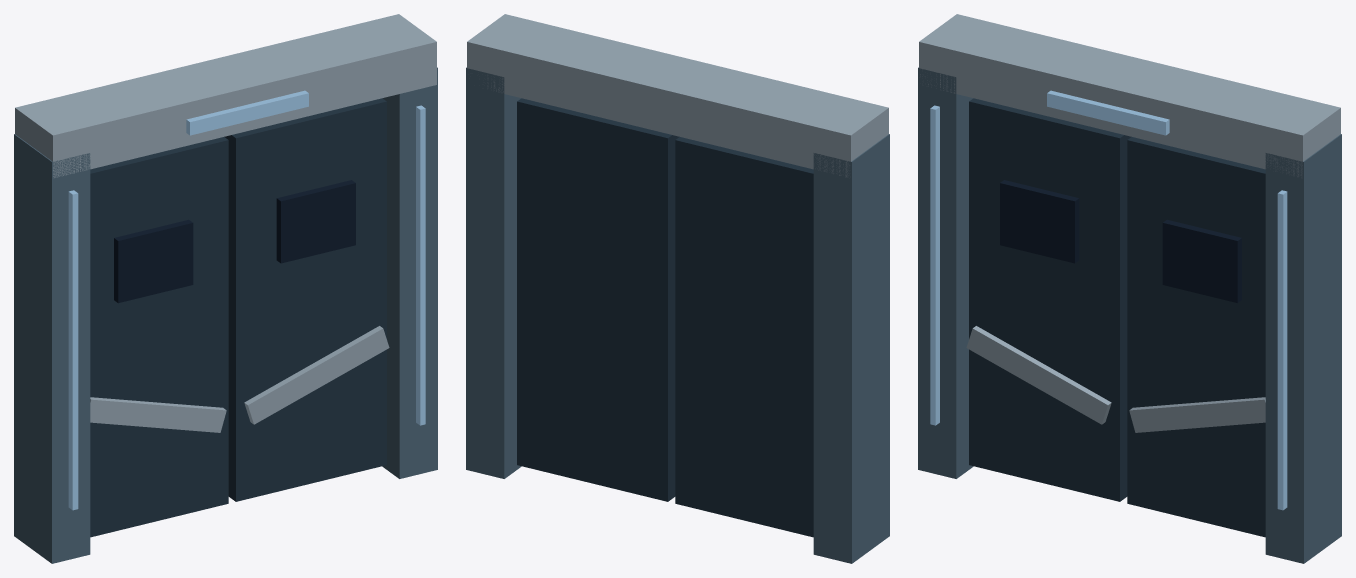
Rendered from device-gate.glb.
The picture shows the model from 3 angles, left to right: view 1: azimuth 30°, elevation 25°; view 2: azimuth 150°, elevation 25°; view 3: azimuth 330°, elevation 25°; orthographic projection.
Parts seen in each view (by area): view 1: door-panel (×2), gate-jamb (×2), gate-lintel, door-window (×2), door-brace (×2), state-light (×2), gate-status; view 2: door-panel (×2), gate-jamb (×2), gate-lintel; view 3: door-panel (×2), gate-jamb (×2), gate-lintel, door-window (×2), door-brace (×2), state-light (×2), gate-status.
Part boxes in pixels (bbox=[...]): door-panel (×2): bbox=[90, 98, 386, 537]; gate-jamb (×2): bbox=[14, 67, 437, 563]; gate-lintel: bbox=[15, 14, 436, 177]; door-window (×2): bbox=[114, 180, 355, 303]; door-brace (×2): bbox=[90, 326, 389, 432]; state-light (×2): bbox=[68, 105, 425, 510]; gate-status: bbox=[186, 90, 308, 135]; door-panel (×2): bbox=[517, 98, 813, 537]; gate-jamb (×2): bbox=[466, 67, 889, 563]; gate-lintel: bbox=[467, 14, 888, 177]; door-panel (×2): bbox=[969, 98, 1265, 537]; gate-jamb (×2): bbox=[918, 67, 1341, 563]; gate-lintel: bbox=[919, 14, 1340, 177]; door-window (×2): bbox=[1000, 180, 1241, 303]; door-brace (×2): bbox=[966, 326, 1265, 432]; state-light (×2): bbox=[930, 105, 1287, 510]; gate-status: bbox=[1047, 90, 1169, 135].
Size of the model in its own units: 4.22 by 4.47 by 0.805.
